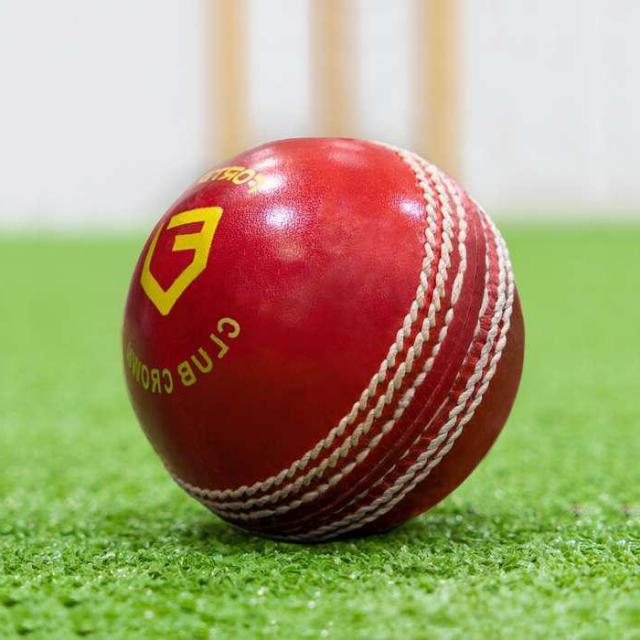ball: (118, 135, 528, 545)
